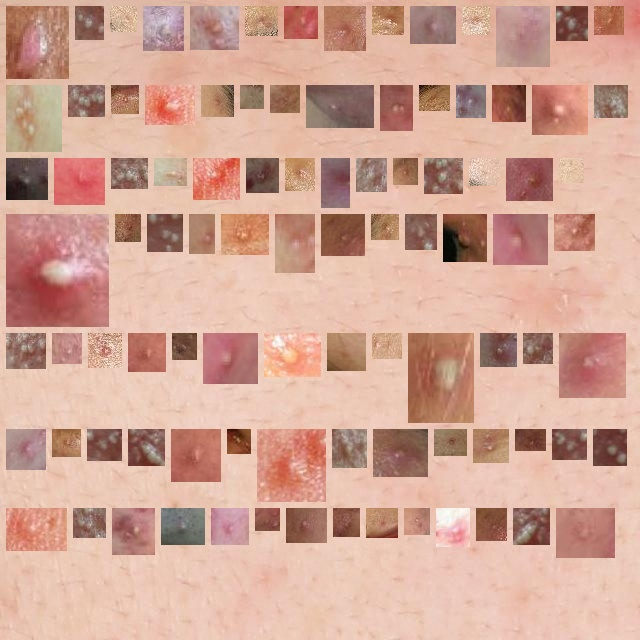pustule: (14, 222, 101, 319), (416, 341, 466, 415), (265, 437, 318, 494), (14, 14, 61, 71), (567, 341, 618, 390), (14, 93, 54, 144), (504, 14, 542, 59), (564, 516, 607, 550), (314, 93, 366, 120), (501, 222, 540, 257), (211, 341, 250, 376), (540, 93, 580, 127), (179, 437, 213, 474), (381, 437, 420, 469), (14, 516, 59, 543), (272, 341, 313, 369), (62, 166, 97, 197), (283, 222, 307, 265), (514, 166, 551, 193), (198, 14, 231, 42), (451, 222, 479, 254), (120, 516, 147, 547), (153, 93, 187, 117), (201, 166, 232, 192), (229, 222, 261, 247), (332, 14, 358, 43), (329, 222, 357, 248), (151, 14, 176, 43), (329, 166, 350, 200), (14, 166, 40, 192), (418, 14, 448, 36), (14, 437, 38, 462), (169, 516, 197, 537), (562, 222, 587, 243), (388, 93, 405, 123), (136, 341, 158, 364), (335, 341, 358, 363), (14, 341, 38, 361), (294, 516, 319, 535), (219, 516, 241, 537), (432, 166, 455, 186), (136, 437, 157, 458), (521, 516, 542, 537), (155, 222, 175, 244), (340, 437, 359, 460), (444, 516, 462, 539), (197, 222, 214, 246), (500, 93, 518, 114), (488, 341, 509, 359), (601, 437, 619, 458), (481, 437, 501, 455), (96, 341, 114, 360), (76, 93, 97, 109), (254, 166, 271, 185), (413, 222, 429, 242), (119, 166, 140, 181), (292, 14, 310, 31), (602, 93, 620, 110), (564, 14, 580, 33), (95, 437, 114, 453), (560, 437, 579, 452), (209, 93, 226, 109), (364, 166, 379, 184), (484, 516, 499, 533), (253, 14, 270, 28), (464, 93, 478, 110), (293, 166, 307, 183), (81, 516, 98, 530), (83, 14, 96, 32), (374, 516, 390, 530), (60, 341, 74, 356), (531, 341, 545, 356), (380, 14, 396, 27), (162, 166, 179, 178), (442, 437, 459, 448), (602, 14, 616, 27), (477, 166, 492, 178), (278, 93, 292, 105), (470, 14, 482, 27), (119, 93, 131, 106), (60, 437, 73, 449), (427, 93, 442, 103), (341, 516, 352, 529), (380, 341, 394, 351), (523, 437, 538, 446), (123, 222, 133, 234), (379, 222, 391, 232), (118, 14, 129, 24), (412, 516, 422, 527), (401, 166, 410, 177), (180, 341, 189, 352), (567, 166, 576, 175), (235, 437, 243, 446), (248, 93, 256, 101), (263, 516, 272, 523)
